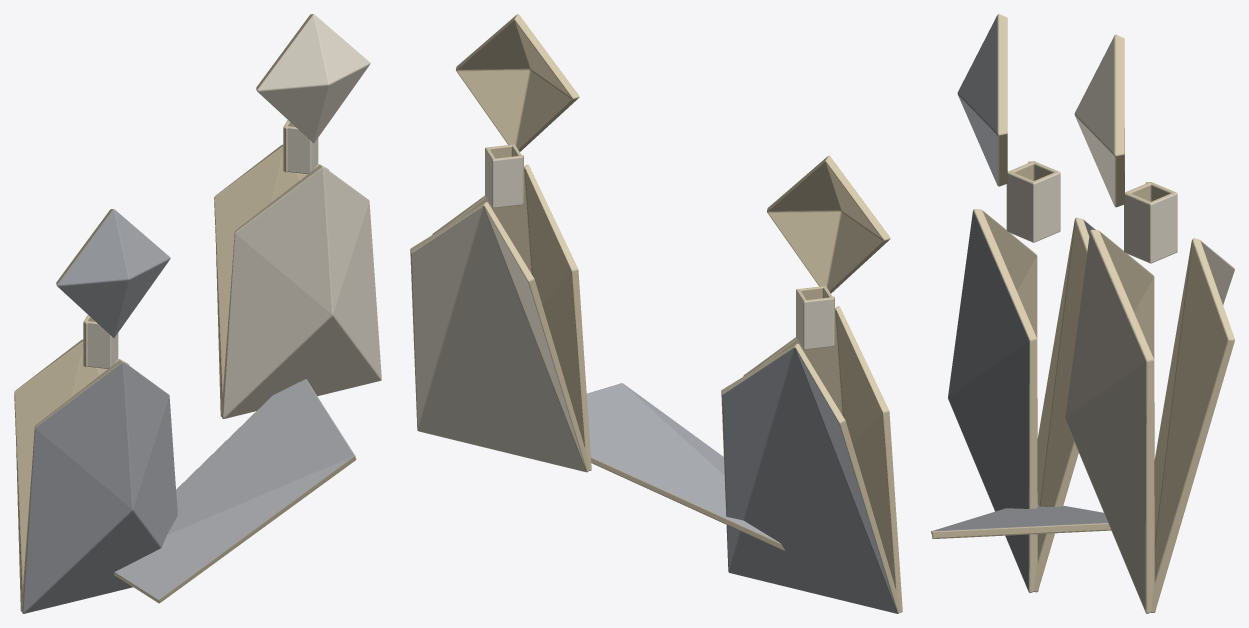
Rendered from achievement-ten-followers.glb.
The picture shows the model from 3 angles, left to right: view 1: azimuth 30°, elevation 25°; view 2: azimuth 150°, elevation 25°; view 3: azimuth 270°, elevation 25°; orthographic projection. The views are drawn at different scales.
Parts seen in each view (by area): view 1: achievement-ten-followers; view 2: achievement-ten-followers; view 3: achievement-ten-followers.
Boxes of the visible parts, bbox=[...] form: achievement-ten-followers: bbox=[14, 14, 381, 613]; achievement-ten-followers: bbox=[410, 14, 902, 613]; achievement-ten-followers: bbox=[931, 14, 1234, 613].
Bounding box in the file's own units: 1.22 × 1.44 × 0.5974.
